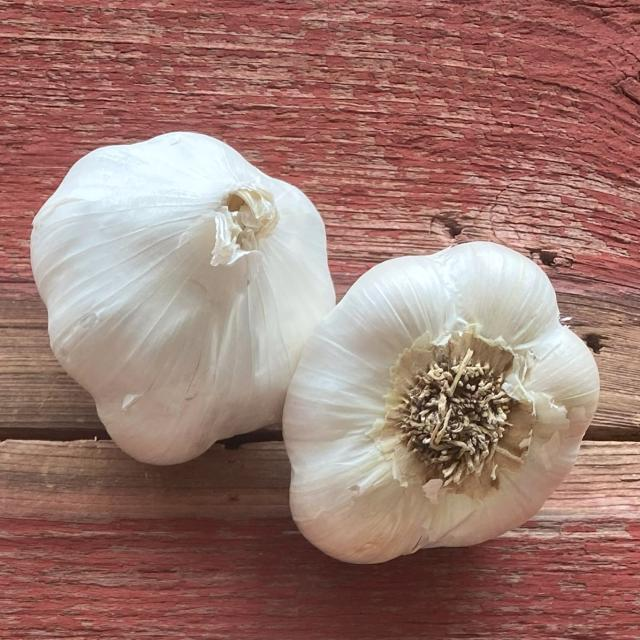garlic: (28, 127, 345, 486)
